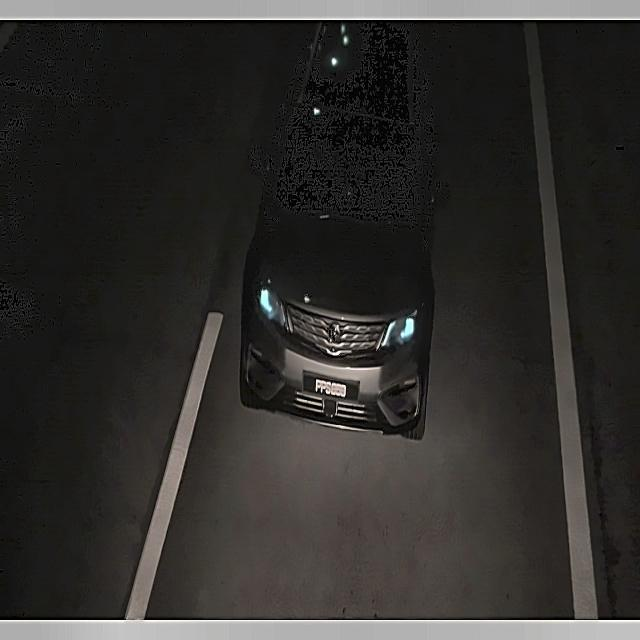car: (298, 356, 367, 411)
